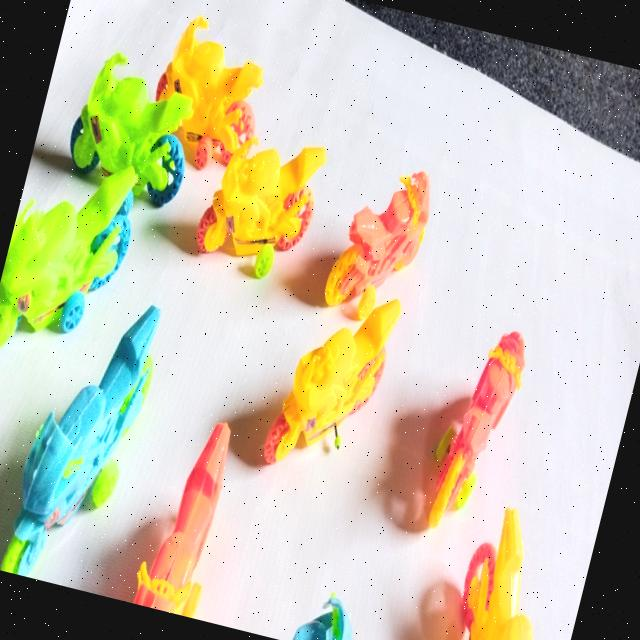bikes: (1, 305, 159, 575), (0, 166, 136, 346), (263, 299, 400, 463), (274, 299, 400, 459), (428, 331, 524, 527), (133, 423, 229, 616), (70, 53, 191, 206), (200, 143, 326, 278), (155, 16, 263, 169), (324, 171, 429, 320)
